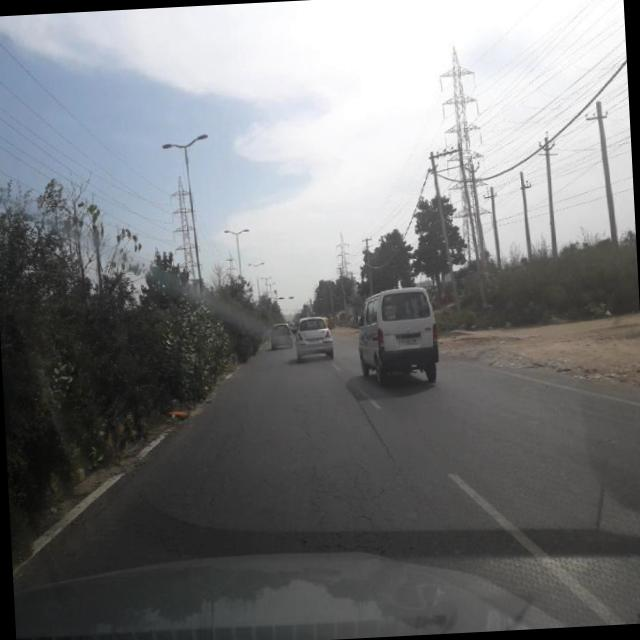crack: (95, 356, 640, 566)
